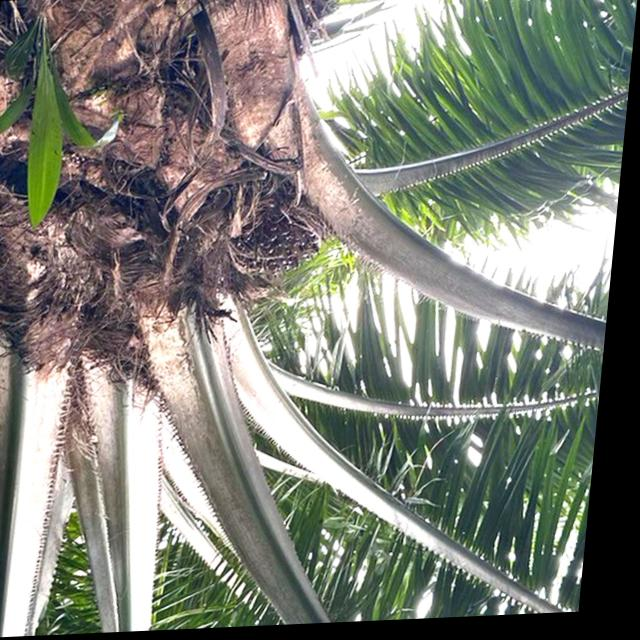almost: (227, 189, 338, 283)
